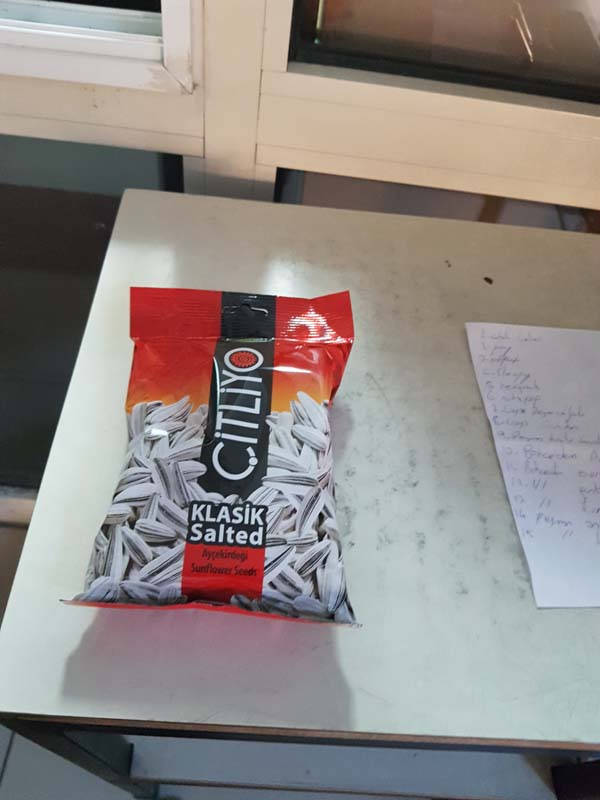citliyorklasik: (62, 276, 372, 635)
